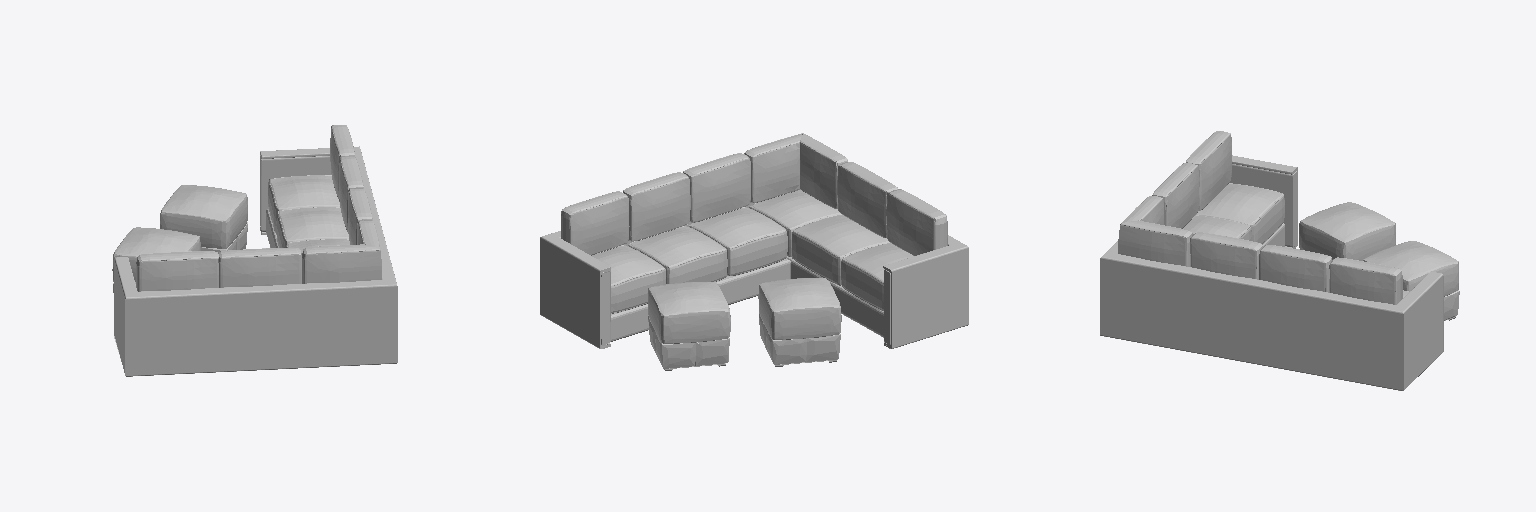
File: Gsofa.obj
3 views of the same model, side by side, from view 1: azimuth 30°, elevation 25°; view 2: azimuth 150°, elevation 25°; view 3: azimuth 270°, elevation 25° (orthographic).
Bounding box in the file's own units: 2378 × 755 × 2231.